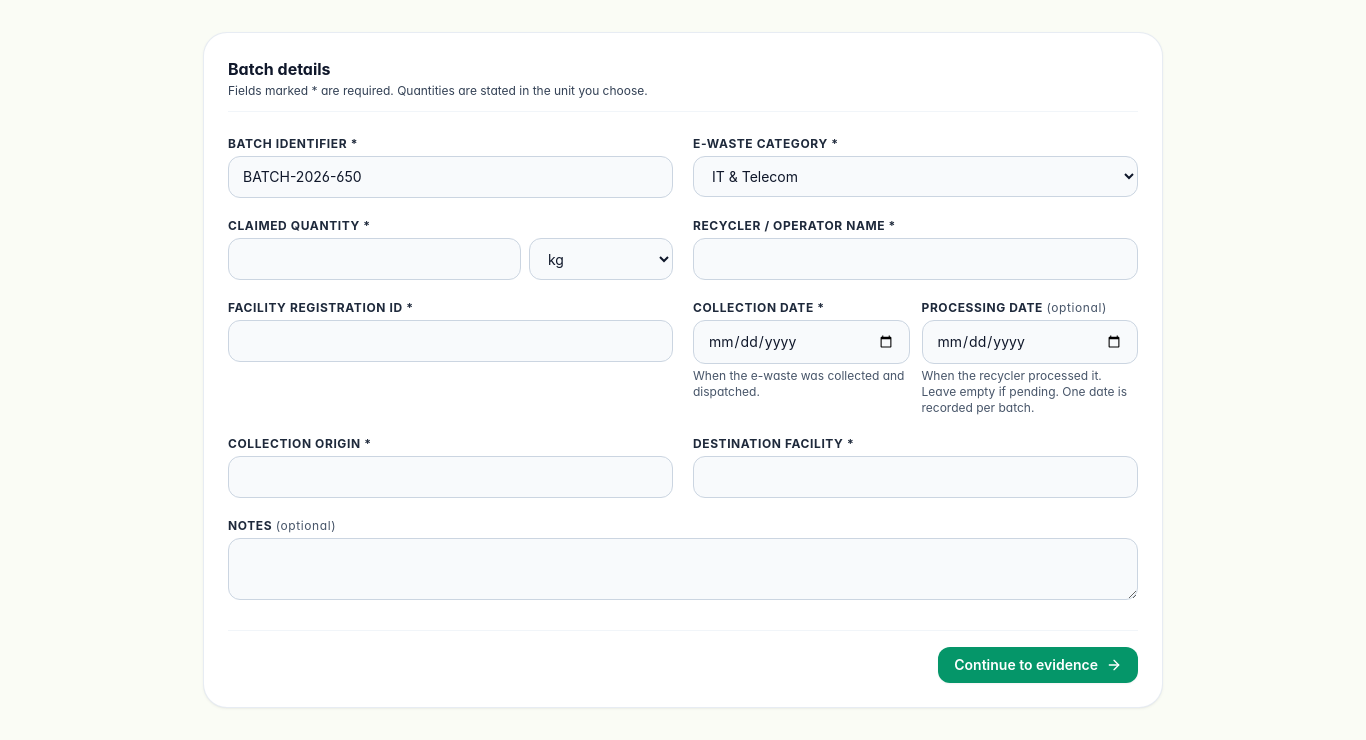
Test: Intake wizard - step 1 validation › shows field-level errors and stays on step 1
This screenshot has width=1366, height=740.
(page scrolled)
Click the button "Continue to evidence" at (1038, 665), box left=938, top=647, right=1138, bottom=683
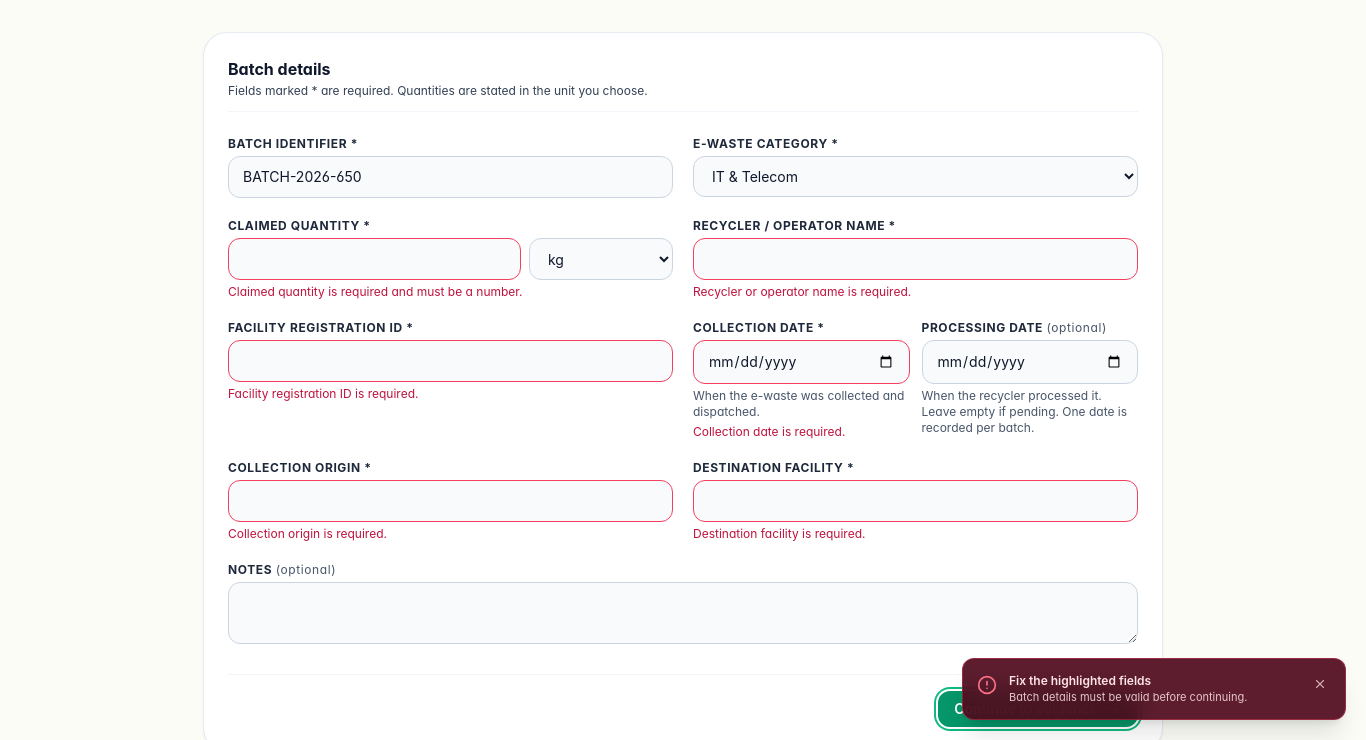
Check: the text "Claimed quantity is required and must be a number." is shown, box left=228, top=284, right=523, bottom=299
Check: the text "Recycler or operator name is required." is shown, box left=693, top=284, right=911, bottom=299
Check: the text "Collection date is required." is shown, box left=693, top=424, right=845, bottom=439
